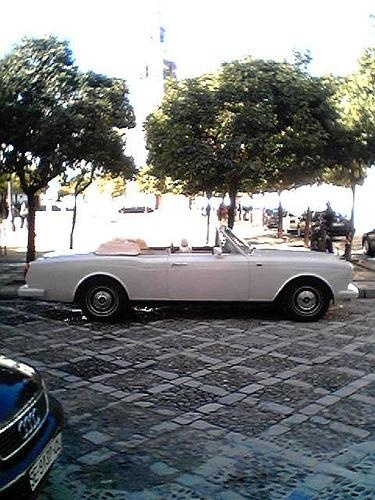car: (19, 224, 355, 323), (1, 355, 69, 499)
